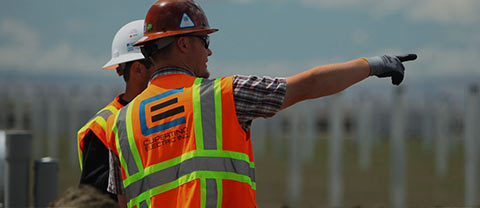hard hat: (132, 1, 222, 46), (101, 15, 146, 68)
high-vis: (110, 75, 257, 208), (80, 93, 125, 177)
